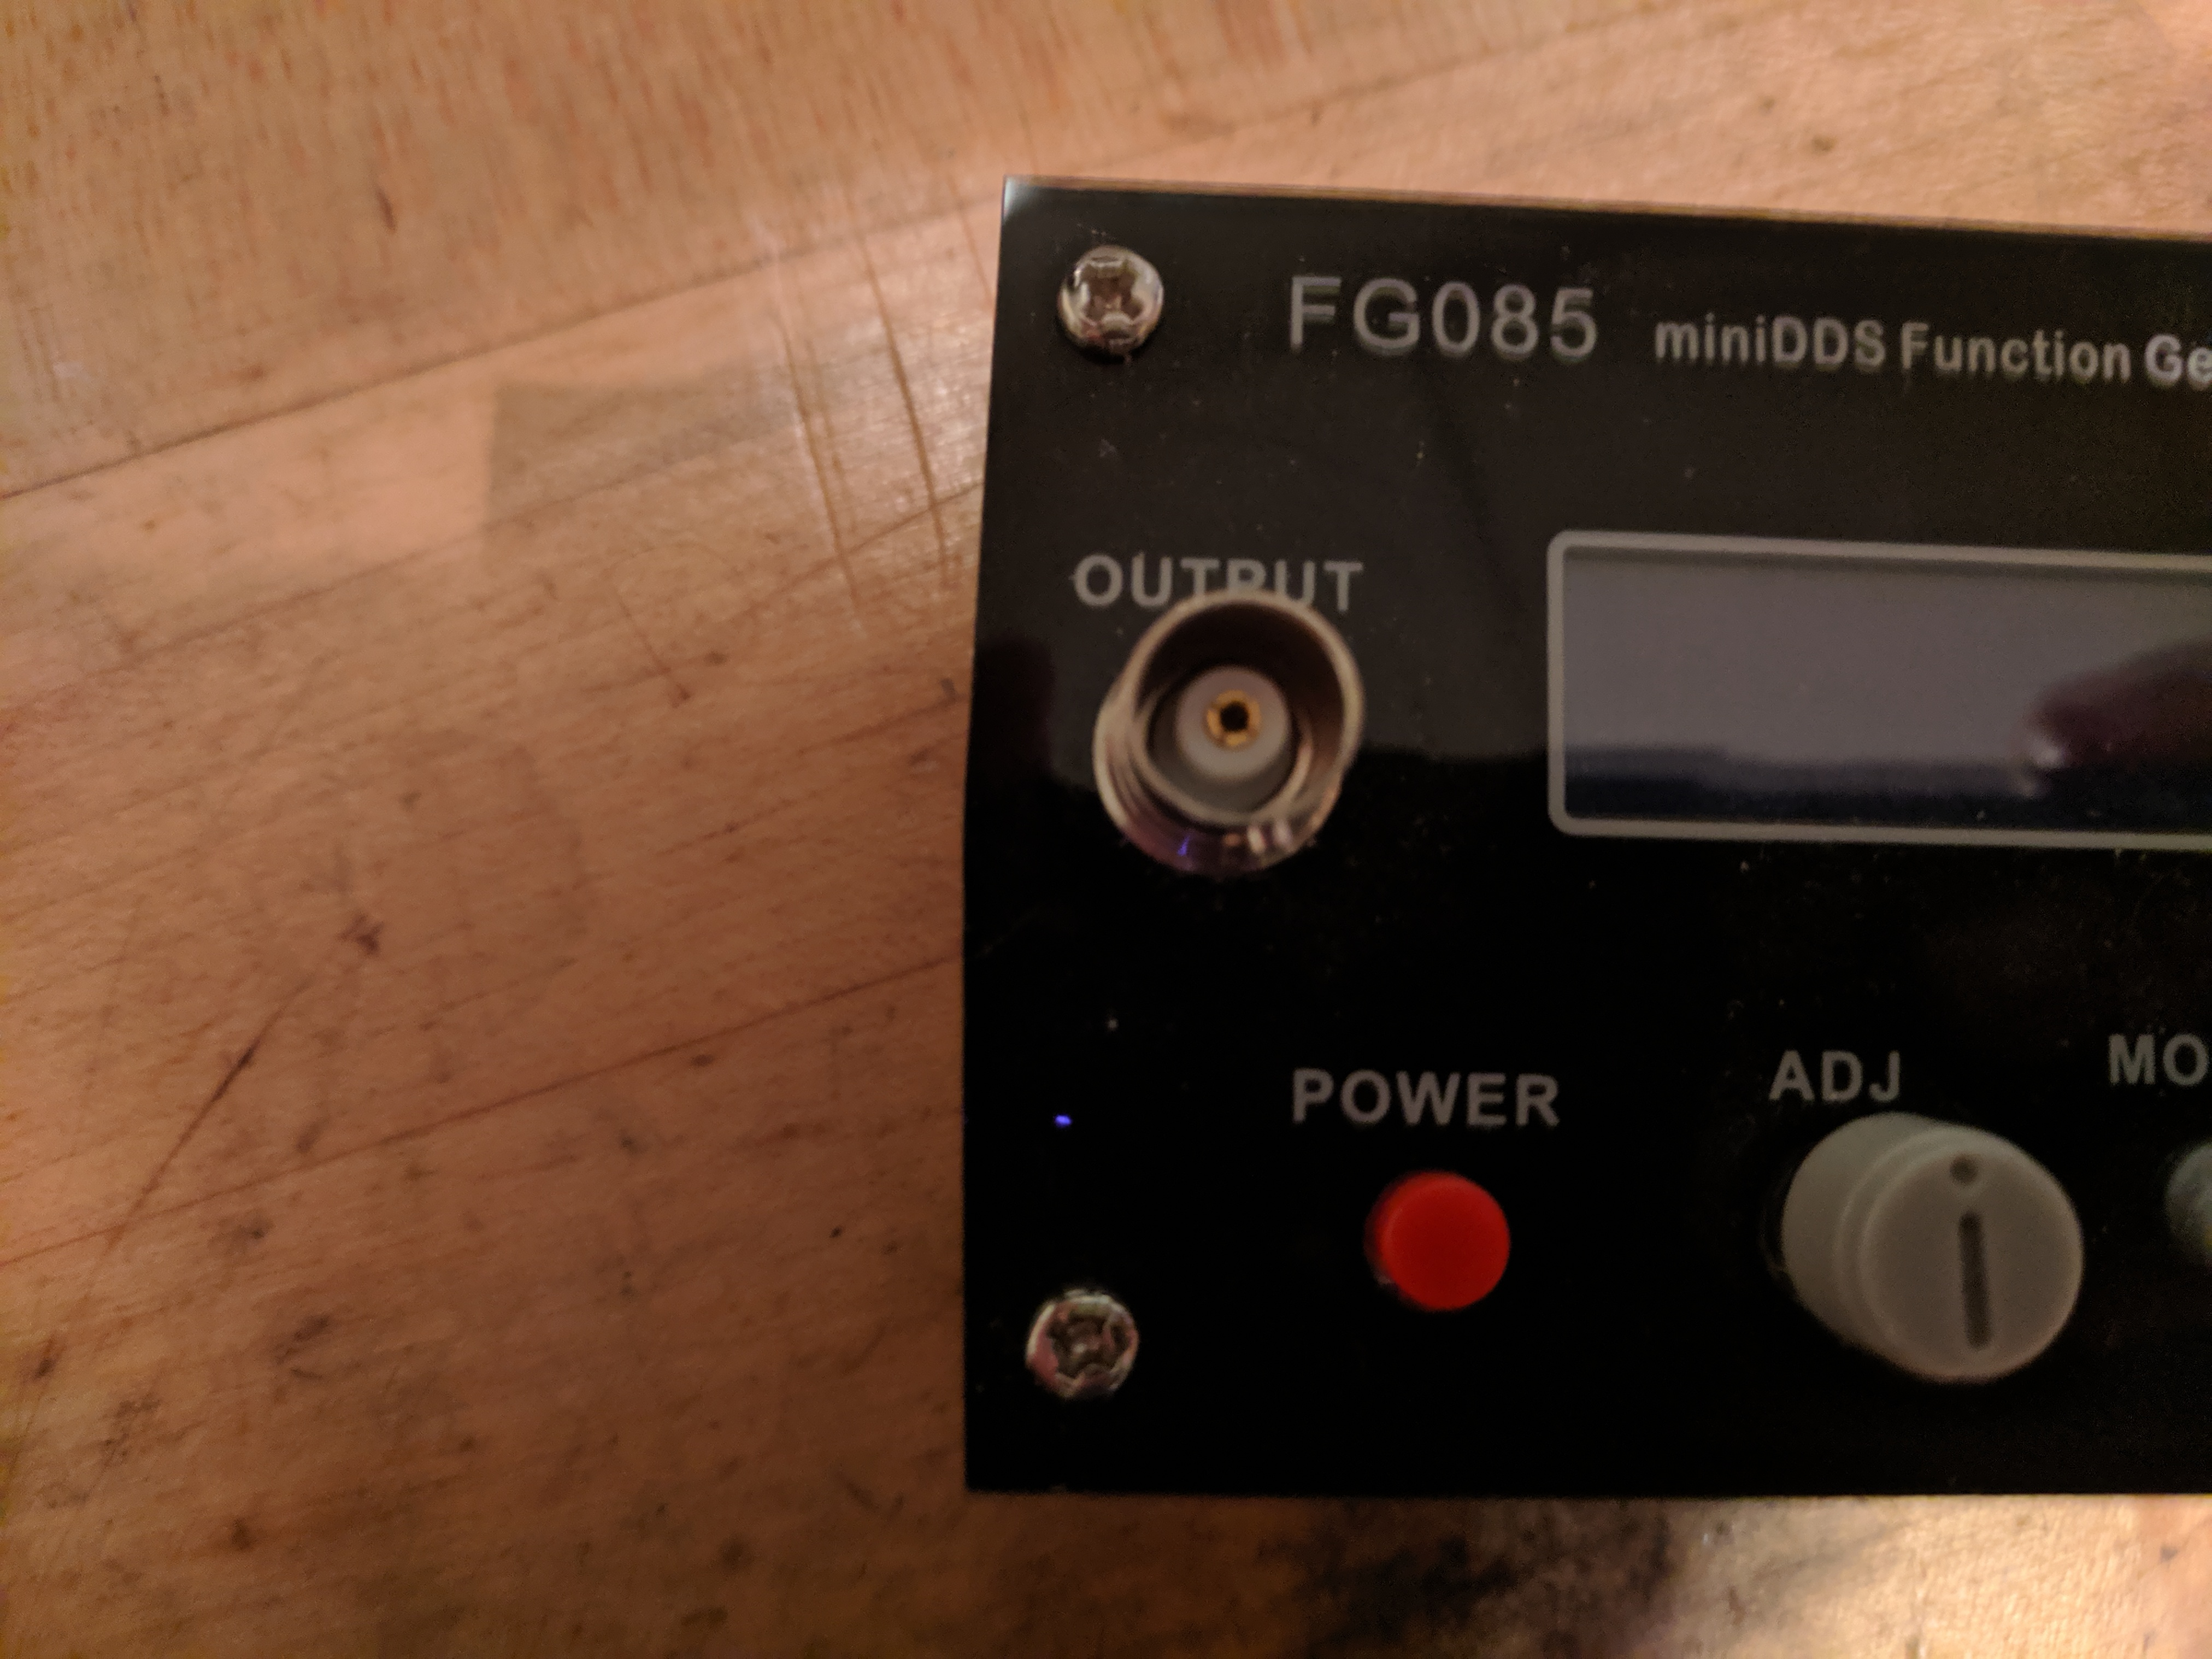cross_recessed_screw: (1021, 1283, 1144, 1398), (1049, 235, 1169, 347)
